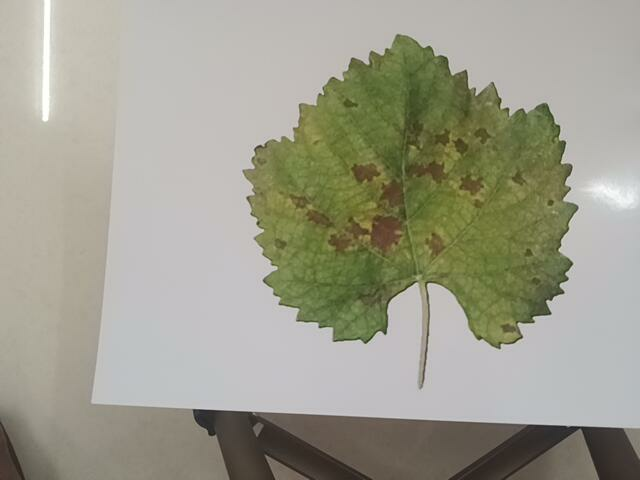Grape_Leaf_Vine_Disease: (240, 27, 605, 395)
